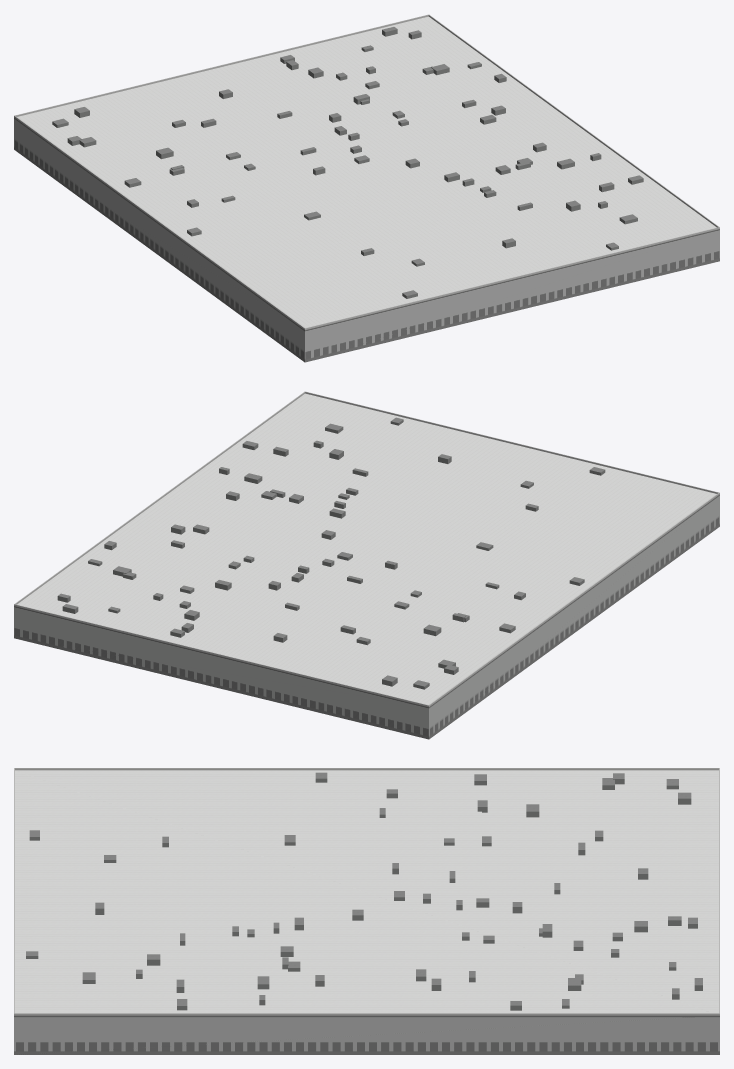
Rendered from khsv_warehouse.glb.
3 views of the same model, one above another, from view 1: azimuth 30°, elevation 25°; view 2: azimuth 150°, elevation 25°; view 3: azimuth 270°, elevation 25° (orthographic). The views are drawn at different scales.
Parts seen in each view (by area): view 1: khsv_warehouse_roof, khsv_warehouse_cargo_wall, khsv_warehouse_plant, khsv_warehouse_coping; view 2: khsv_warehouse_roof, khsv_warehouse_cargo_wall, khsv_warehouse_plant, khsv_warehouse_coping; view 3: khsv_warehouse_roof, khsv_warehouse_cargo_wall, khsv_warehouse_plant, khsv_warehouse_coping.
Boxes of the visible parts, bbox=[...] form: khsv_warehouse_roof: bbox=[17, 16, 716, 327]; khsv_warehouse_cargo_wall: bbox=[14, 117, 719, 362]; khsv_warehouse_plant: bbox=[52, 27, 643, 298]; khsv_warehouse_coping: bbox=[14, 14, 719, 329]; khsv_warehouse_roof: bbox=[17, 393, 716, 704]; khsv_warehouse_cargo_wall: bbox=[14, 494, 719, 739]; khsv_warehouse_plant: bbox=[57, 417, 605, 689]; khsv_warehouse_coping: bbox=[14, 391, 719, 706]; khsv_warehouse_roof: bbox=[15, 770, 718, 1013]; khsv_warehouse_cargo_wall: bbox=[14, 1015, 719, 1054]; khsv_warehouse_plant: bbox=[26, 772, 702, 1010]; khsv_warehouse_coping: bbox=[14, 768, 719, 1015].
Bounding box in the file's own units: 215 × 18.5 × 261.
4 materials, 4 textured.
